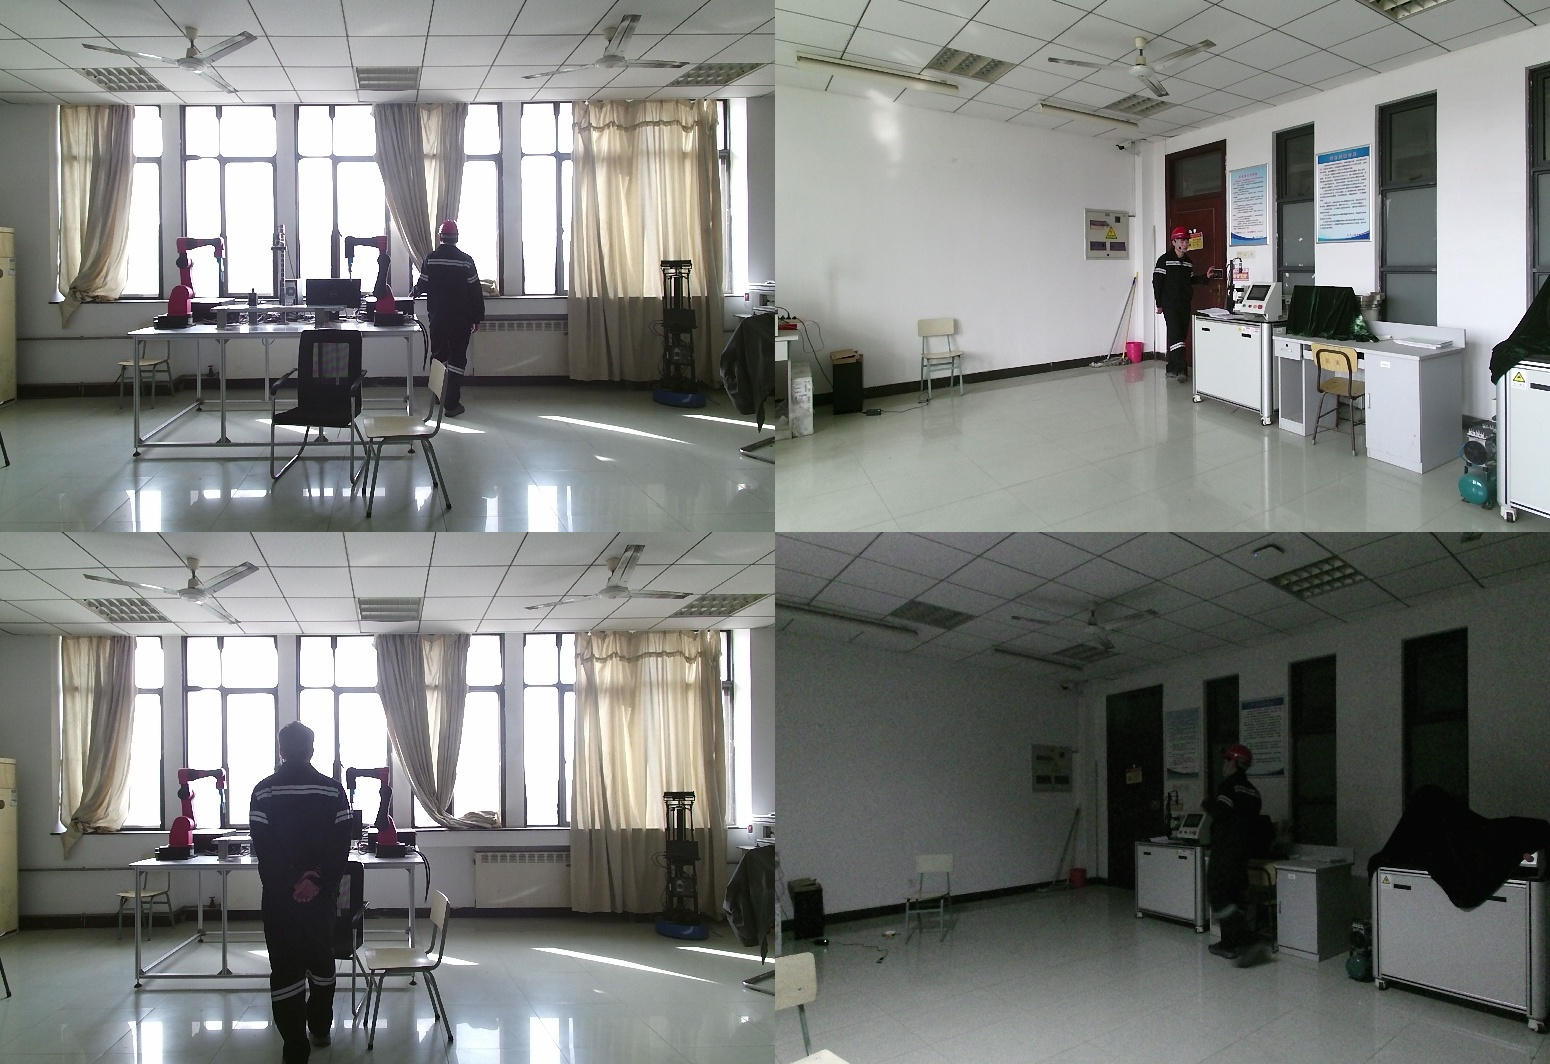person: (246, 724, 355, 1064), (1209, 743, 1286, 969), (410, 222, 487, 423), (1153, 228, 1211, 386)
